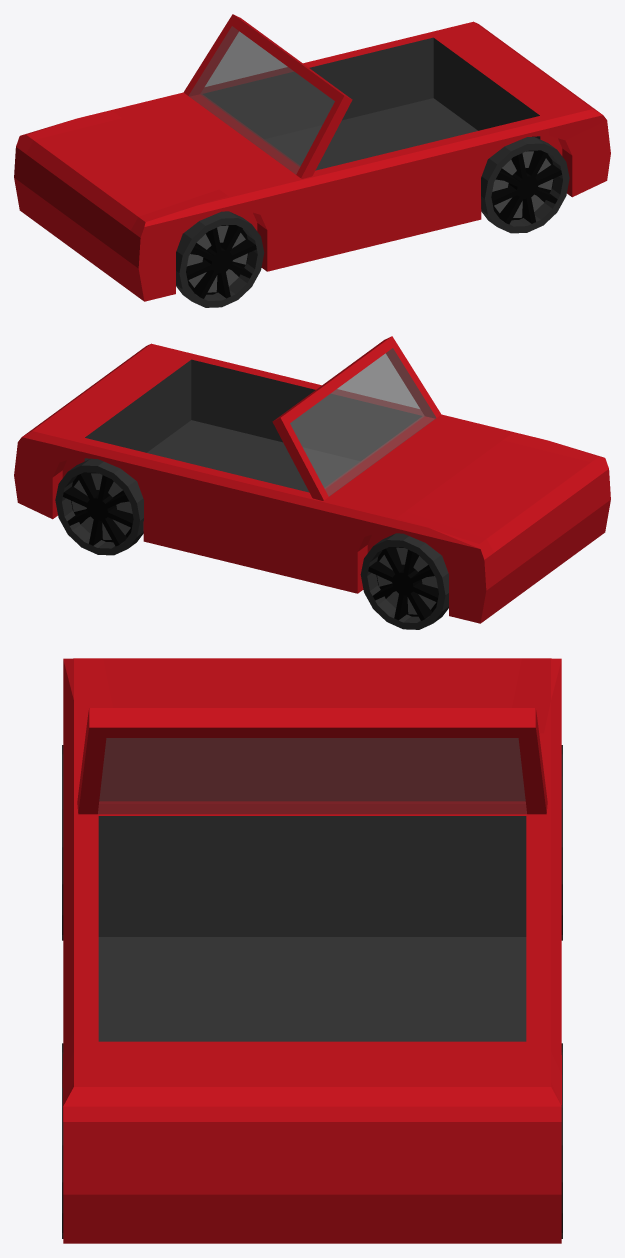
The model's file is car.glb.
3 renders of one model, top to bottom at view 1: azimuth 30°, elevation 25°; view 2: azimuth 150°, elevation 25°; view 3: azimuth 270°, elevation 25°, orthographic. The views are drawn at different scales.
Parts seen in each view (by area): view 1: Cube, window, wheels; view 2: Cube, window, wheels; view 3: Cube, window, wheels.
Part boxes in pixels (x1=…): Cube: x1=14, y1=21, x2=610, y2=301; window: x1=183, y1=14, x2=352, y2=178; wheels: x1=176, y1=137, x2=569, y2=307; Cube: x1=14, y1=343, x2=610, y2=623; window: x1=272, y1=336, x2=441, y2=500; wheels: x1=55, y1=459, x2=448, y2=629; Cube: x1=62, y1=658, x2=561, y2=1243; window: x1=77, y1=708, x2=547, y2=814; wheels: x1=62, y1=745, x2=562, y2=1238.
Size of the model in its own units: 6.12 by 2.17 by 2.81.
